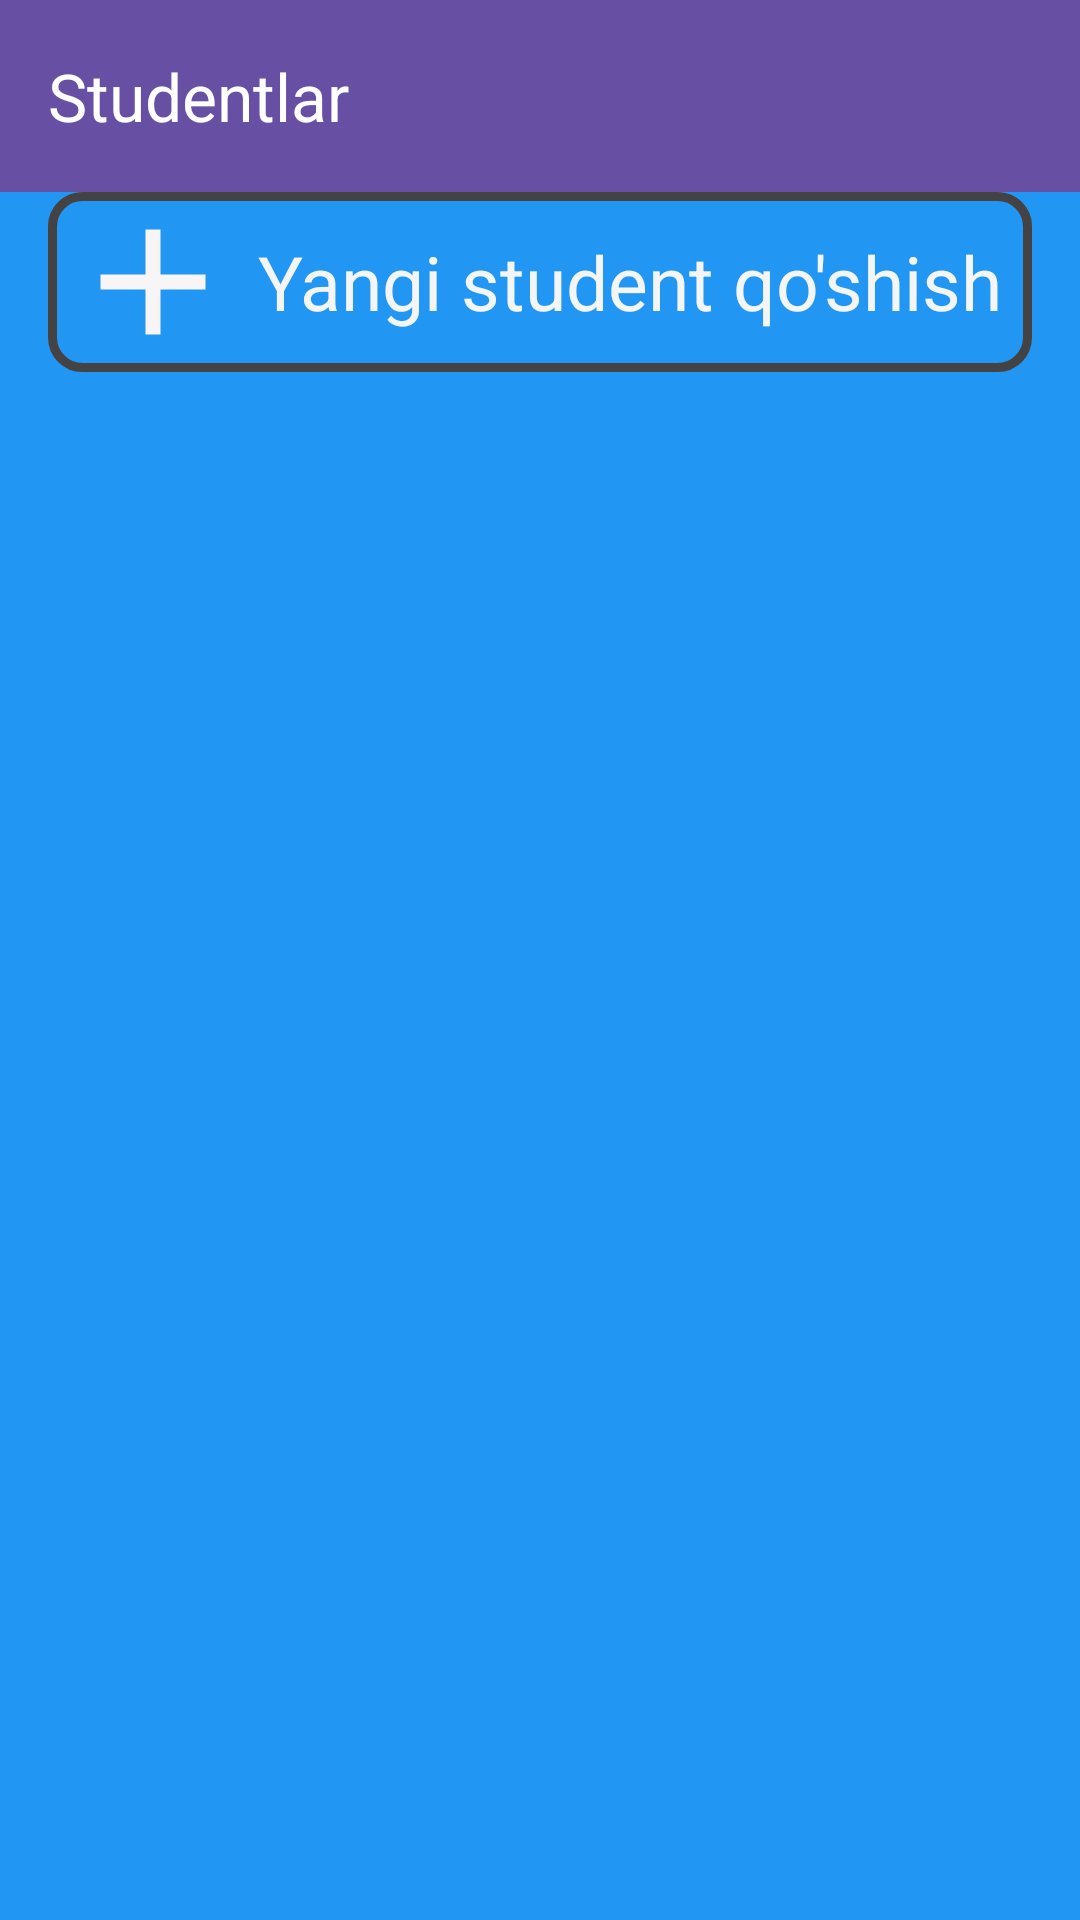

Icons on this 1080x1920 Android screen, each with the point to tap as point (x, y):
add: point (153, 282)
